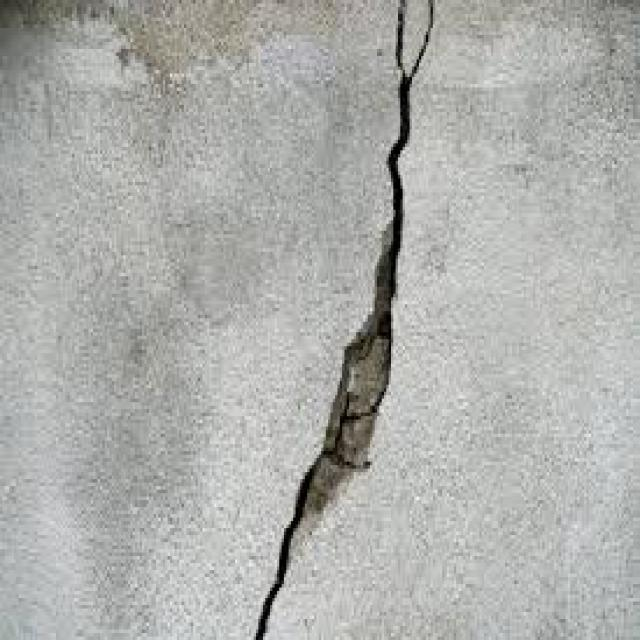crack: (255, 0, 434, 639)
